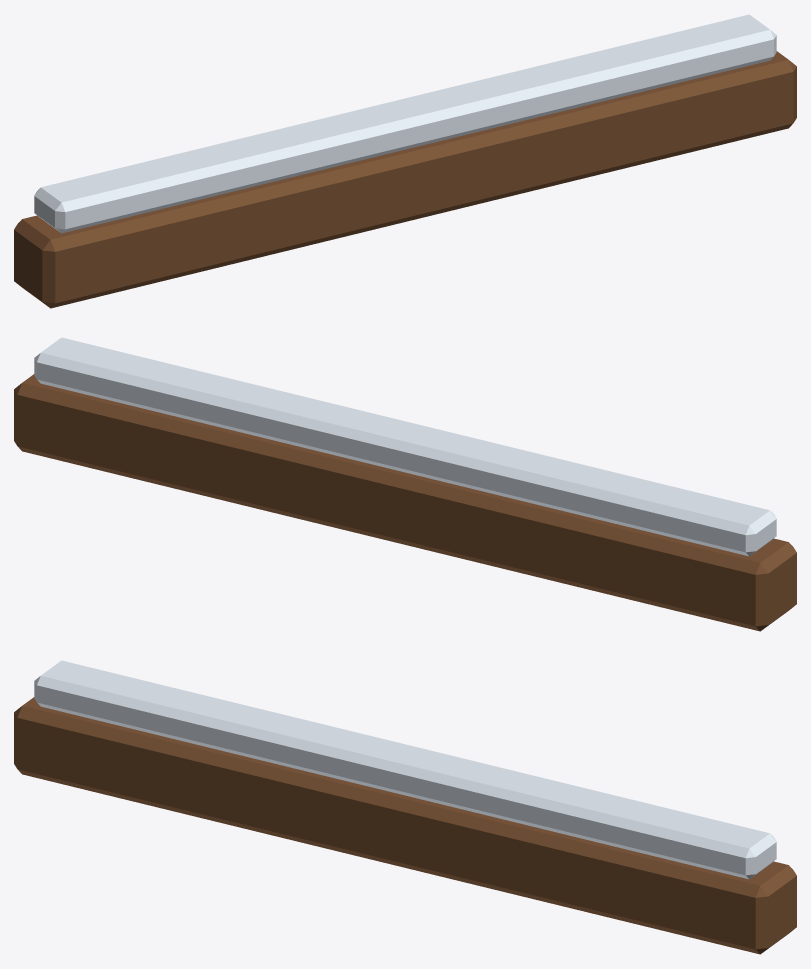
Rendered from Prop_FenceRail.fbx.
3 renders of one model, top to bottom at view 1: azimuth 30°, elevation 25°; view 2: azimuth 150°, elevation 25°; view 3: azimuth 330°, elevation 25°, orthographic.
Visible parts, largest first — view 1: Prop_FenceRail; view 2: Prop_FenceRail; view 3: Prop_FenceRail.
Part boxes in pixels (bbox=[...]): Prop_FenceRail: bbox=[14, 14, 796, 308]; Prop_FenceRail: bbox=[14, 337, 796, 631]; Prop_FenceRail: bbox=[14, 660, 796, 954].
Size of the model in its own units: 230 by 29 by 20.
